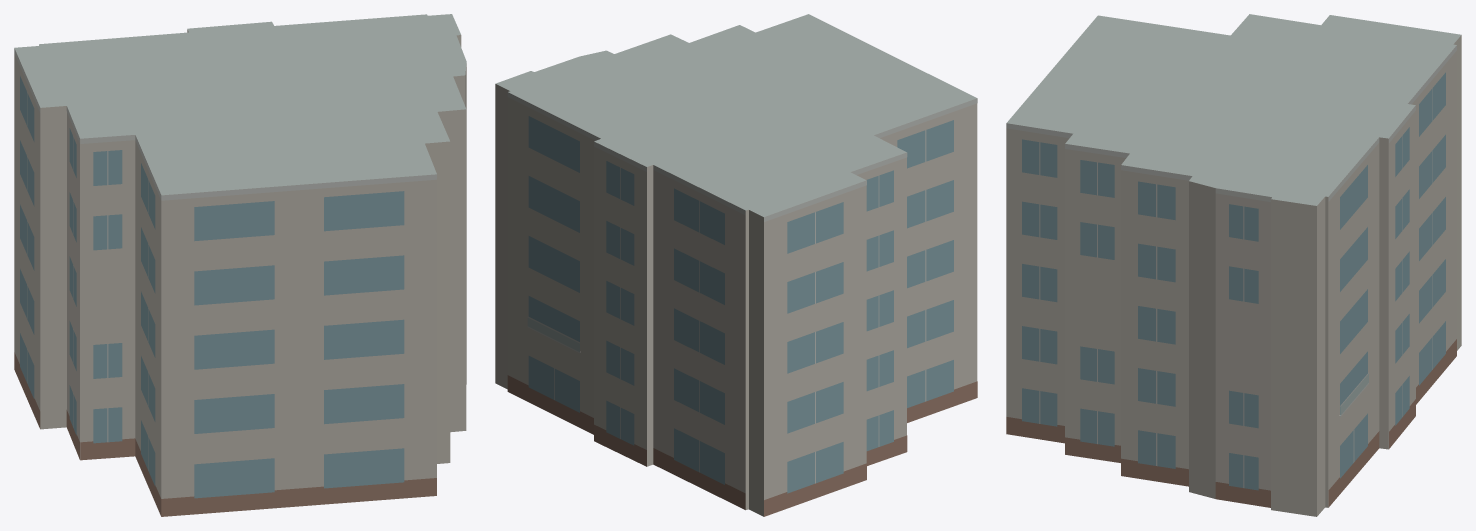
Rendered from survey-upis-32675107.glb.
3 views of the same model, side by side, from view 1: azimuth 30°, elevation 25°; view 2: azimuth 150°, elevation 25°; view 3: azimuth 270°, elevation 25° (orthographic). The views are drawn at different scales.
Visible parts, largest first — view 1: survey-upis-32675107.tmp; view 2: survey-upis-32675107.tmp; view 3: survey-upis-32675107.tmp.
Part boxes in pixels (bbox=[...]): survey-upis-32675107.tmp: bbox=[14, 14, 466, 516]; survey-upis-32675107.tmp: bbox=[495, 14, 977, 516]; survey-upis-32675107.tmp: bbox=[1006, 14, 1461, 516].
Size of the model in its own units: 19.37 by 14.62 by 19.42.
